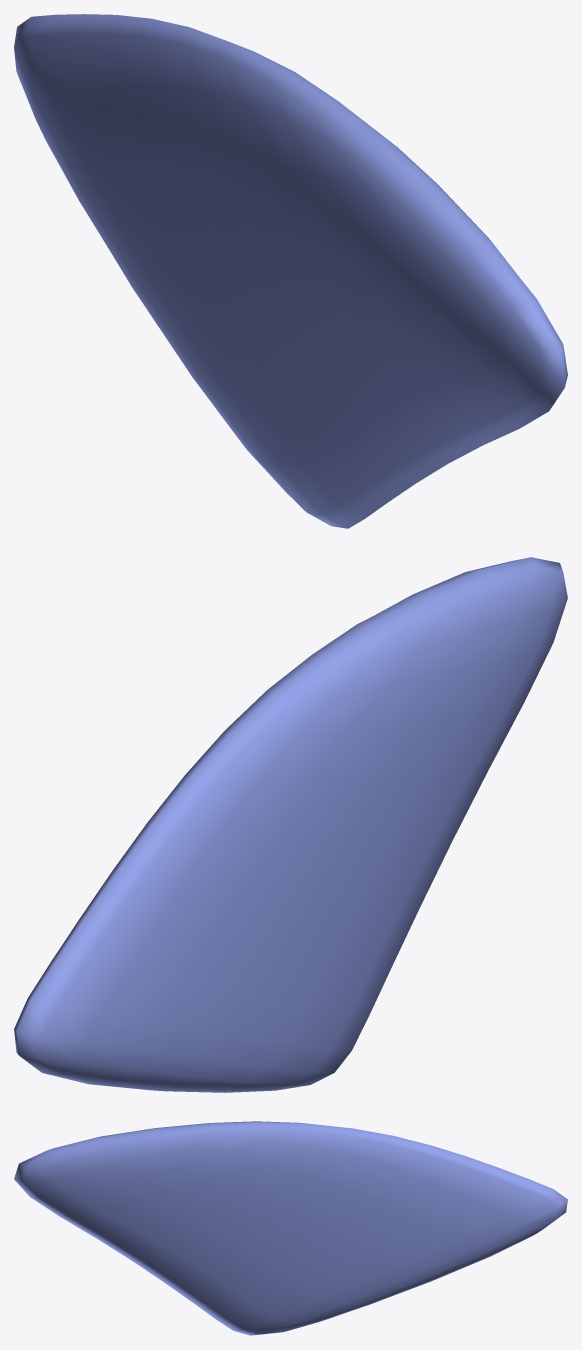
The model's file is Tail.fbx.
3 renders of one model, top to bottom at view 1: azimuth 30°, elevation 25°; view 2: azimuth 150°, elevation 25°; view 3: azimuth 270°, elevation 25°, orthographic. The views are drawn at different scales.
Visible parts, largest first — view 1: tail; view 2: tail; view 3: tail.
Part boxes in pixels (x1,y1,x2,y2): tail: (14, 14, 567, 528); tail: (14, 557, 567, 1092); tail: (14, 1121, 567, 1335).
Bounding box in the file's own units: 0.0406 × 0.2219 × 0.5222.
